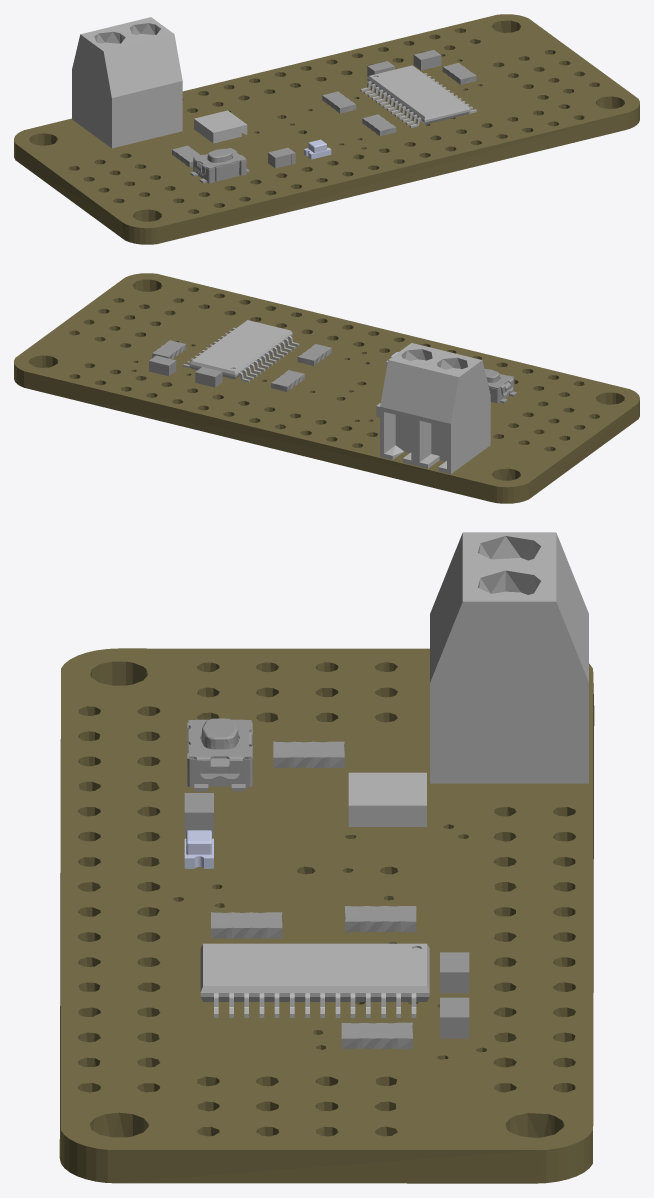
Rendered from adafruit-2928-servo-featherwing.glb.
3 views of the same model, one above another, from view 1: azimuth 30°, elevation 25°; view 2: azimuth 150°, elevation 25°; view 3: azimuth 270°, elevation 25° (orthographic). The views are drawn at different scales.
Parts seen in each view (by area): view 1: colour 1, colour 2, colour 3, colour 4; view 2: colour 1, colour 2, colour 3; view 3: colour 1, colour 2, colour 3, colour 4.
Part boxes in pixels (x1=…): colour 1: x1=14, y1=14, x2=639, y2=244; colour 2: x1=72, y1=17, x2=476, y2=148; colour 3: x1=172, y1=50, x2=476, y2=183; colour 4: x1=304, y1=139, x2=331, y2=159; colour 1: x1=14, y1=273, x2=639, y2=503; colour 2: x1=183, y1=320, x2=490, y2=474; colour 3: x1=149, y1=340, x2=516, y2=406; colour 1: x1=59, y1=648, x2=594, y2=1183; colour 2: x1=200, y1=532, x2=588, y2=1017; colour 3: x1=184, y1=718, x2=469, y2=1049; colour 4: x1=184, y1=830, x2=213, y2=868.
Bounding box in the file's own units: 0.0508 × 0.0102 × 0.0229.
